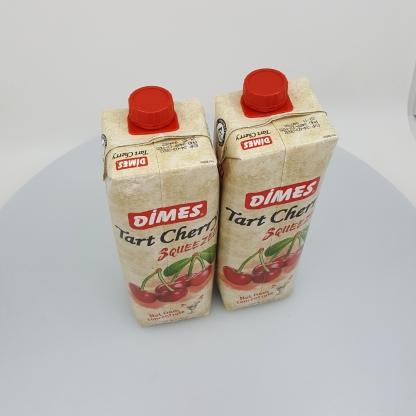DIMES--------1000ML: (214, 68, 338, 312), (101, 86, 220, 327)
